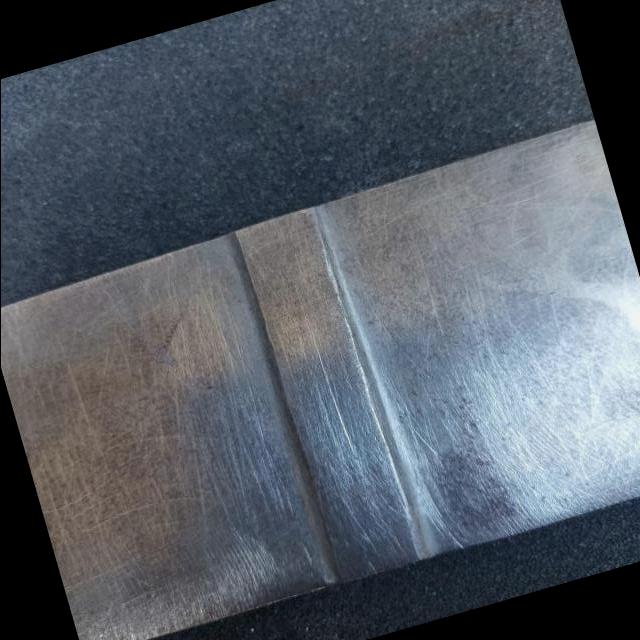defect: (311, 327, 357, 453)
